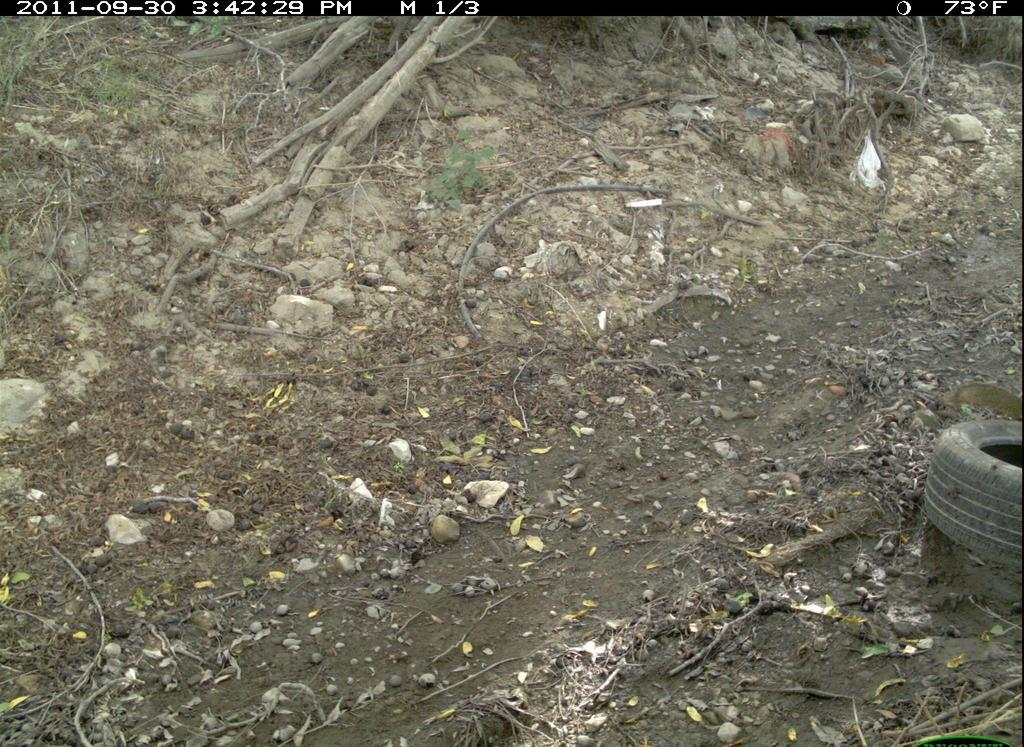squirrel: (951, 362, 1021, 426)
